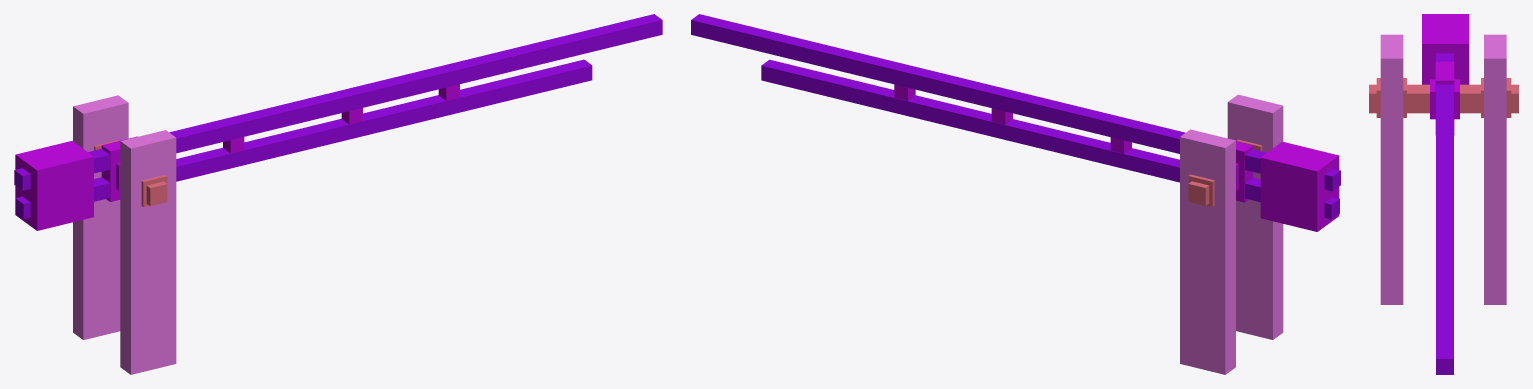
The model's file is barrier_colored.fbx.
3 views of the same model, side by side, from view 1: azimuth 30°, elevation 25°; view 2: azimuth 150°, elevation 25°; view 3: azimuth 270°, elevation 25° (orthographic). The views are drawn at different scales.
Visible parts, largest first — view 1: Cube.013, Cube.003; view 2: Cube.013, Cube.003; view 3: Cube.003, Cube.013.
Boxes of the visible parts, left/top/right/bottom form: Cube.013: left=14, top=14, right=662, bottom=230; Cube.003: left=73, top=95, right=176, bottom=374; Cube.013: left=691, top=14, right=1340, bottom=231; Cube.003: left=1180, top=94, right=1283, bottom=374; Cube.003: left=1369, top=34, right=1518, bottom=304; Cube.013: left=1422, top=14, right=1469, bottom=374.
Bounding box in the file's own units: 846 × 286 × 158.
